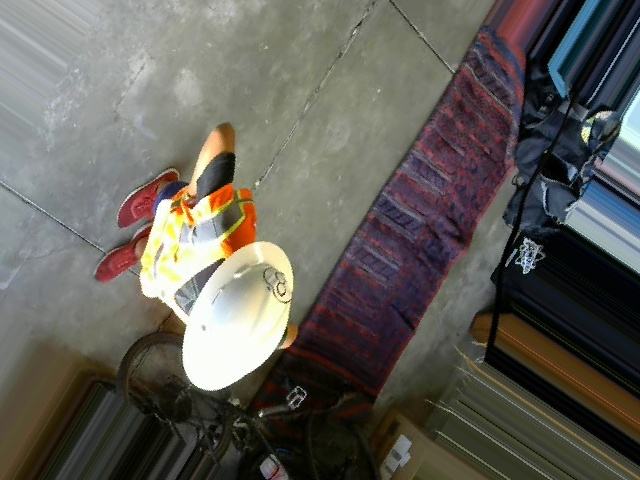eight: (252, 259, 301, 308)
